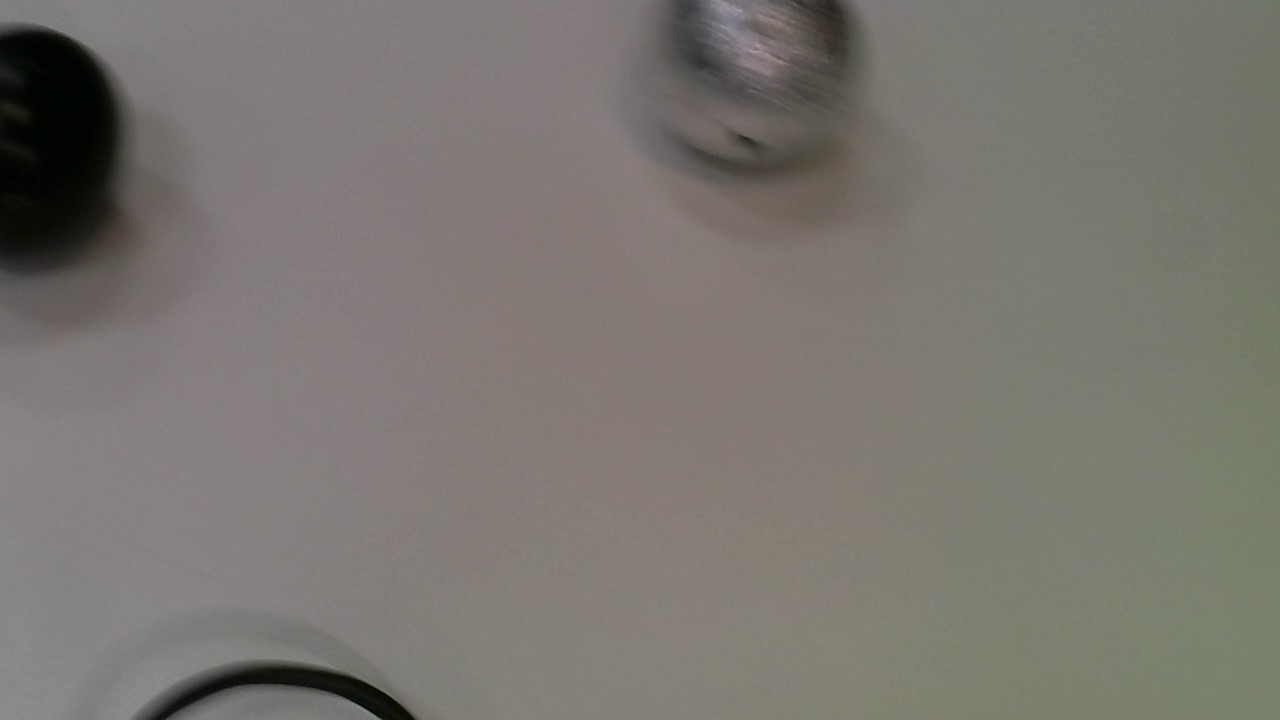silver_ball: (644, 1, 862, 179)
